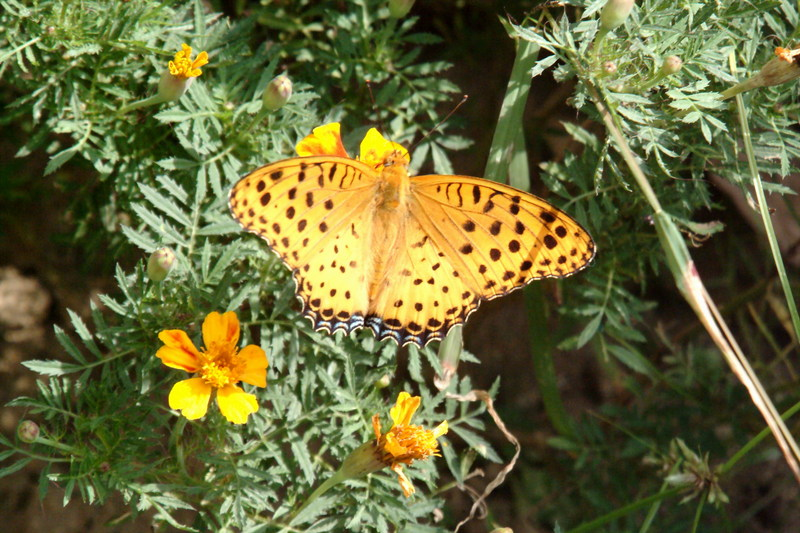Argyreus hyperbius: (220, 70, 598, 346)
butterfly: (222, 72, 600, 348)
